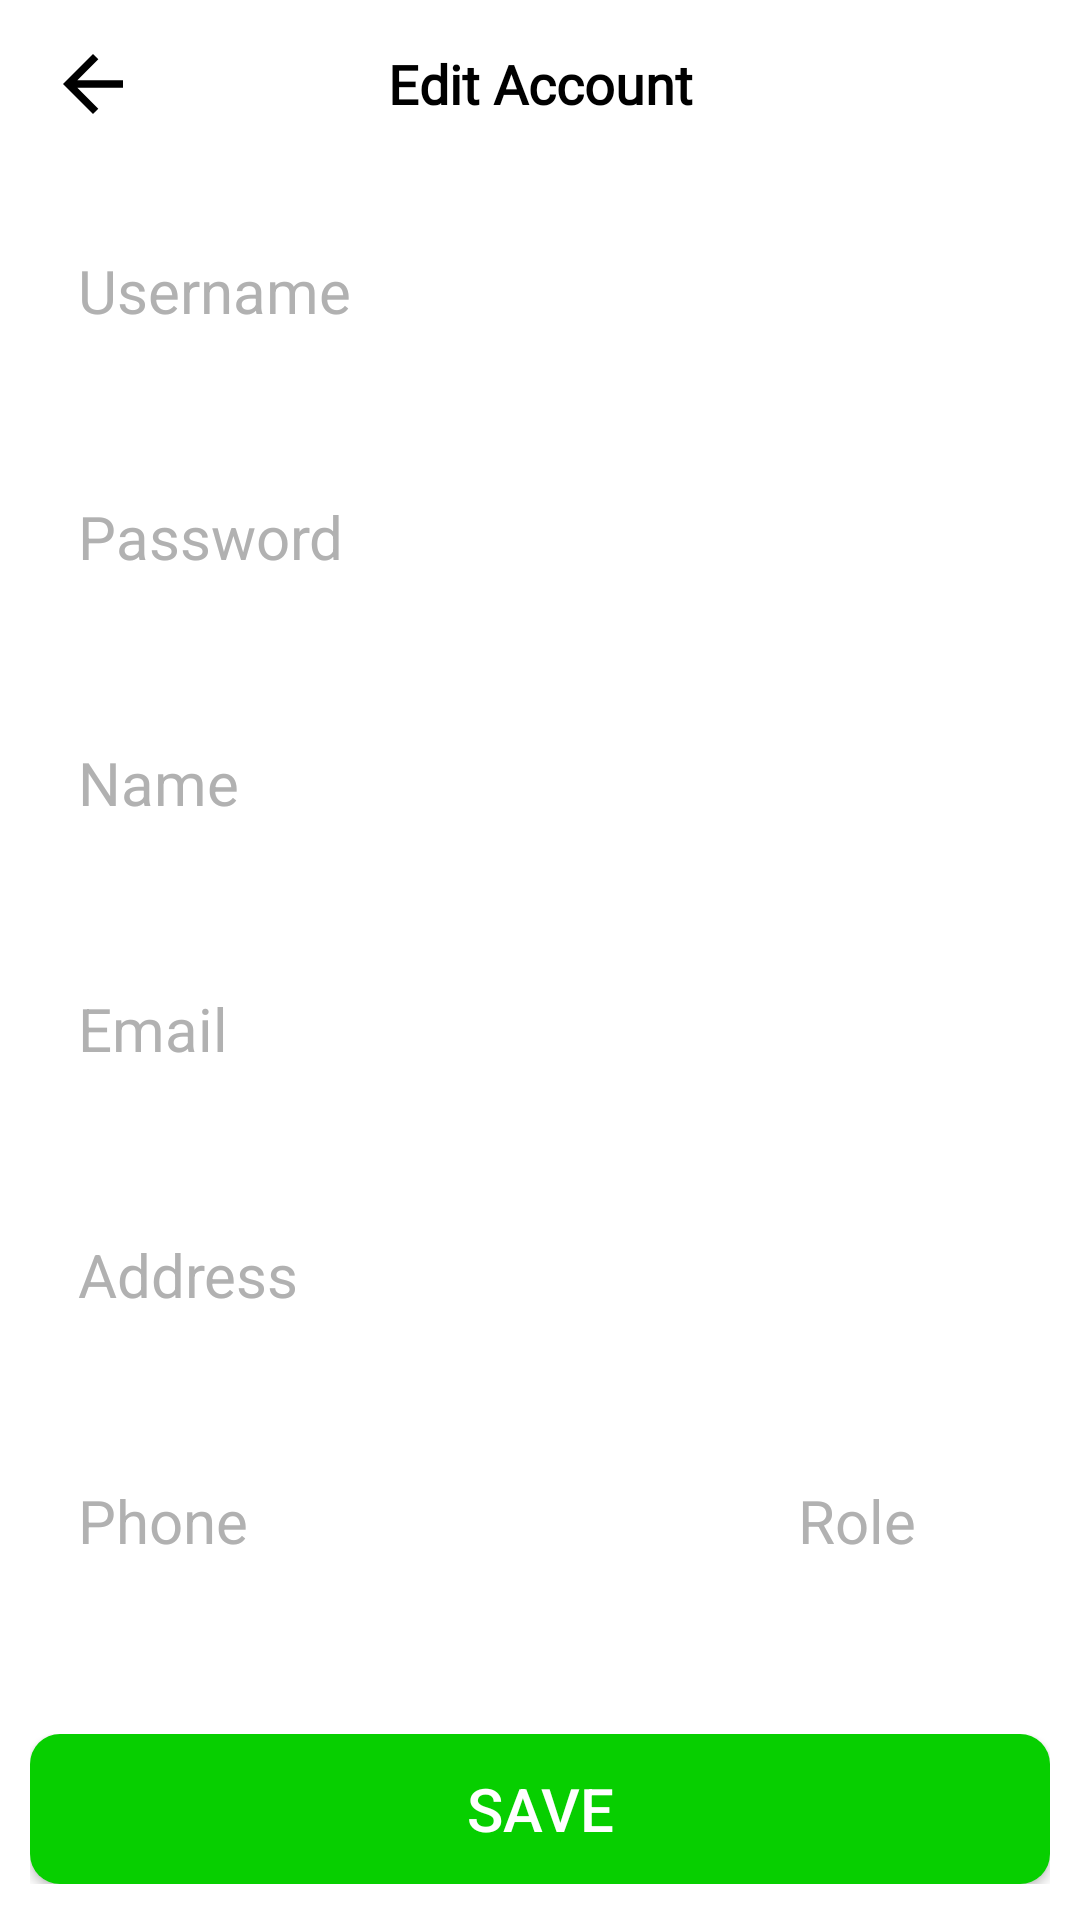

Point at icon controls on the screen. Image size 1080*1920, points as (x,y).
arrow back: (93,84)
